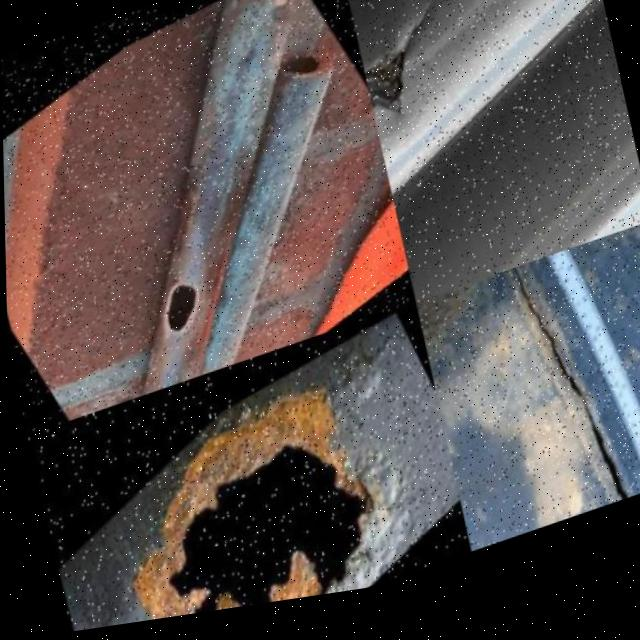crack: (480, 251, 640, 551)
hole: (111, 360, 398, 629), (139, 258, 219, 347)
rupture: (352, 1, 445, 147)
